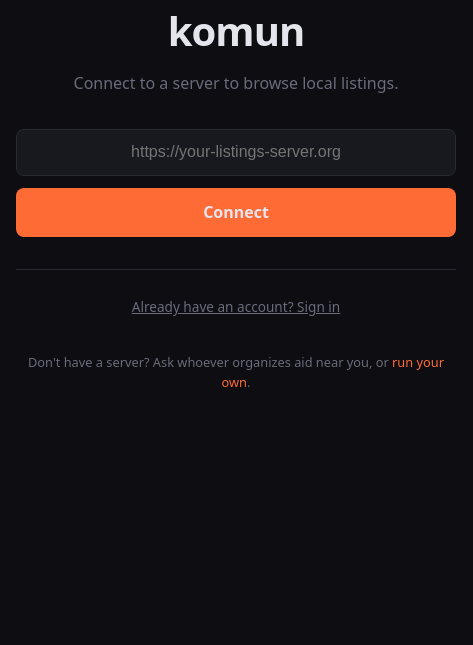
Test: connect page › T3: the own server still connects
Type "http://localhost" into the field at (236, 152), box left=16, top=129, right=456, bottom=176
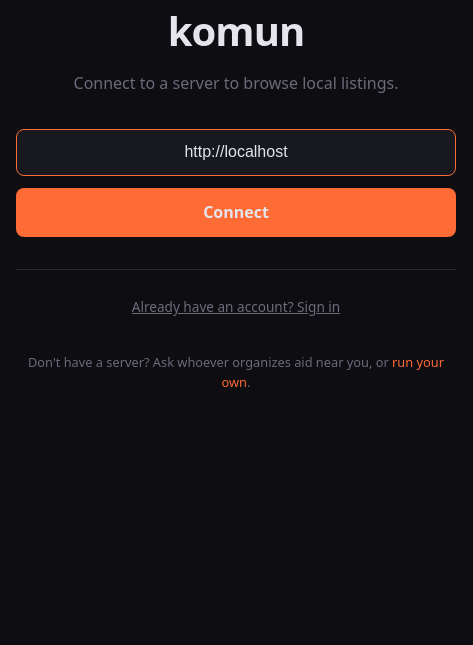
Click the button "Connect" at (236, 213), box left=16, top=188, right=456, bottom=237
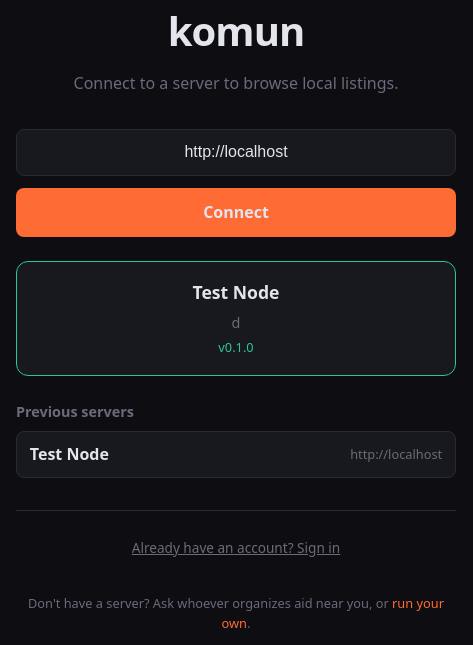
Check: the heading "Test Node" is shown, box left=192, top=280, right=280, bottom=304
Check: the text "http://localhost" is shown, box left=350, top=444, right=442, bottom=465
